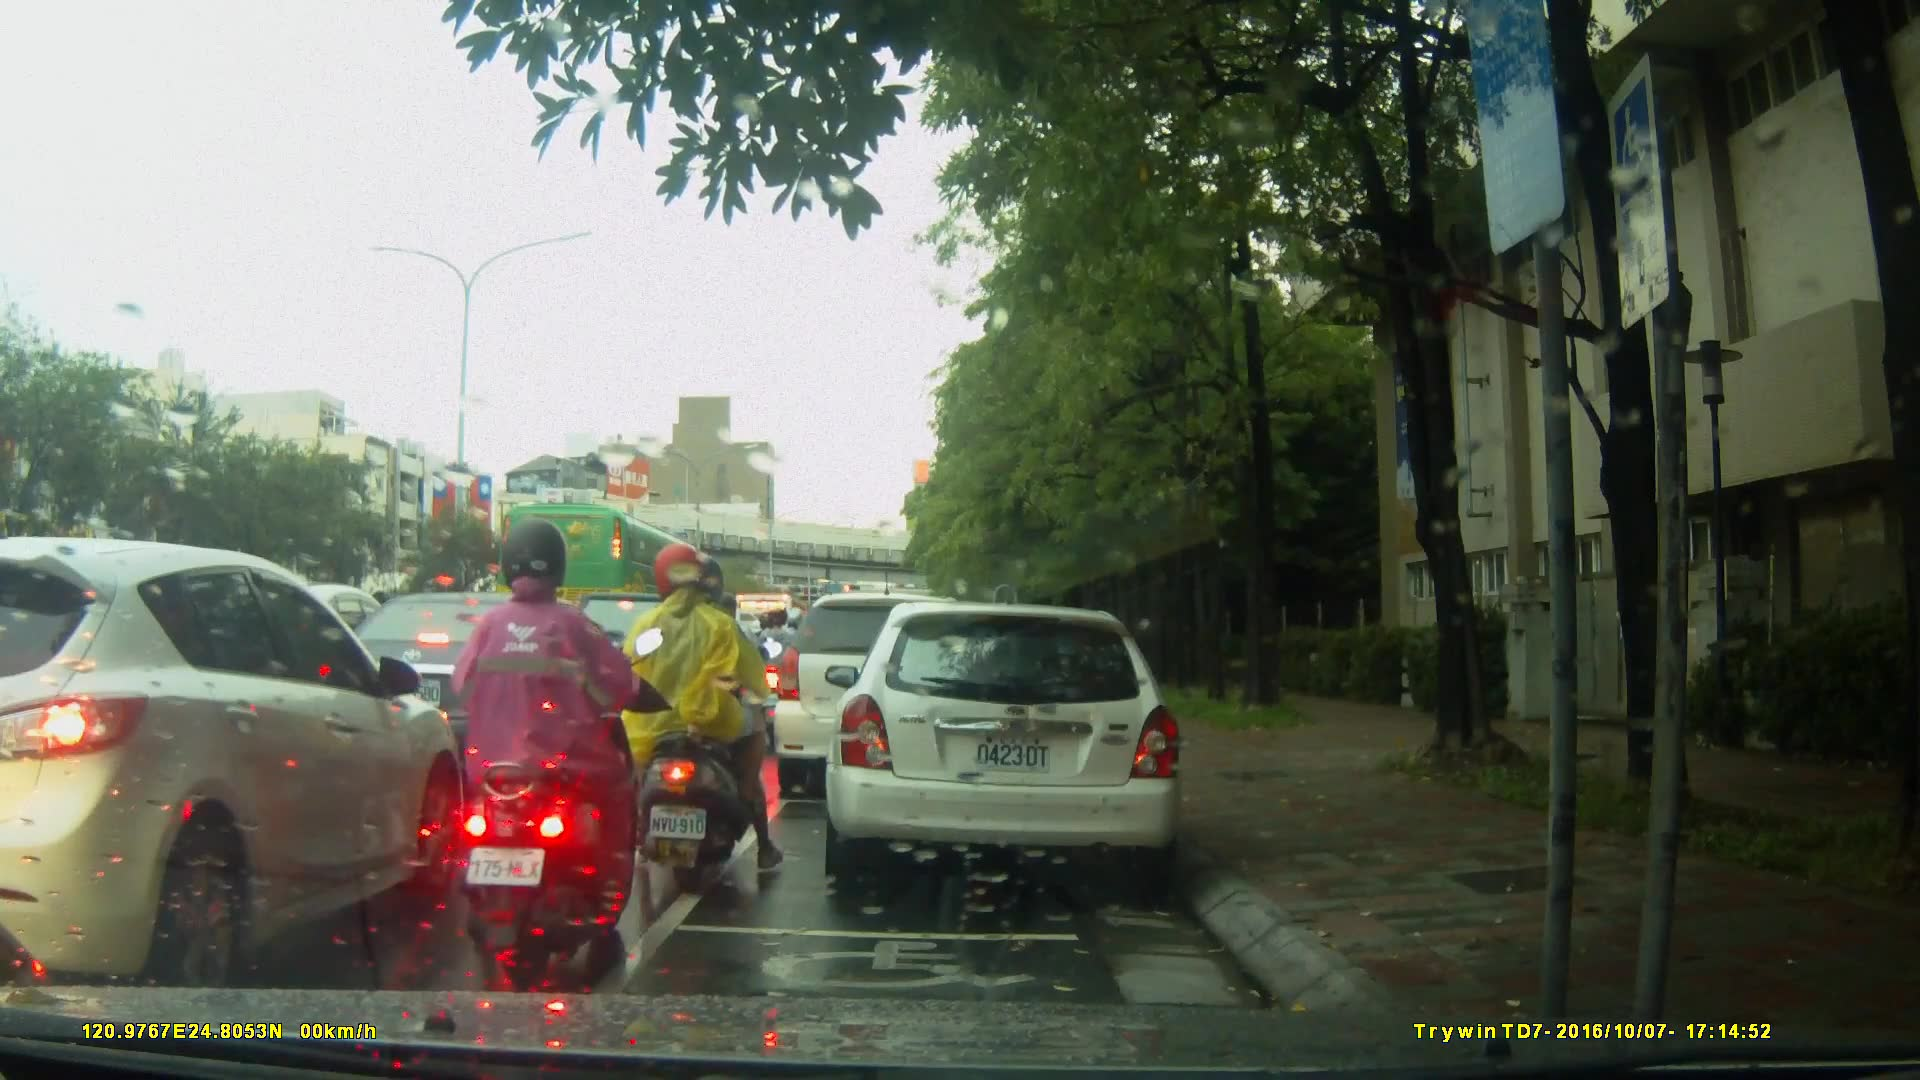rider: (446, 522, 636, 986), (615, 539, 786, 881), (699, 589, 781, 770), (749, 603, 811, 733)
vehicle: (4, 536, 467, 988), (831, 592, 1196, 897), (318, 589, 629, 776), (770, 590, 999, 804), (496, 500, 710, 636)
